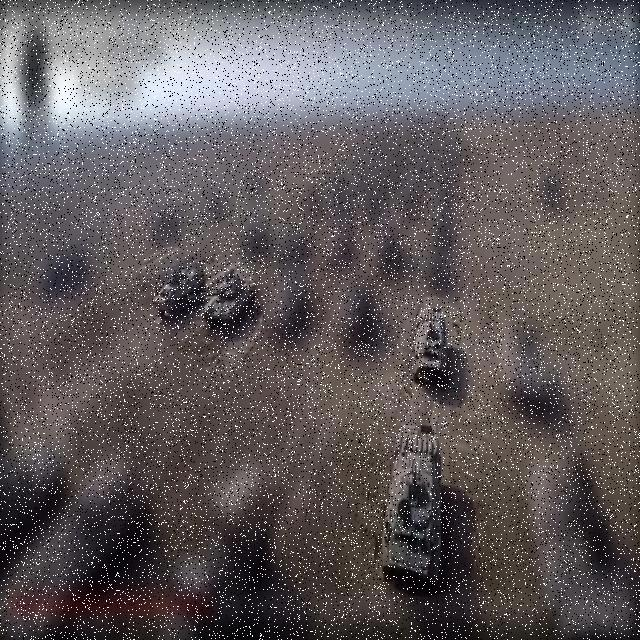MIL_MBT: (375, 421, 443, 598), (200, 269, 260, 331), (411, 303, 450, 390), (152, 267, 200, 318)
